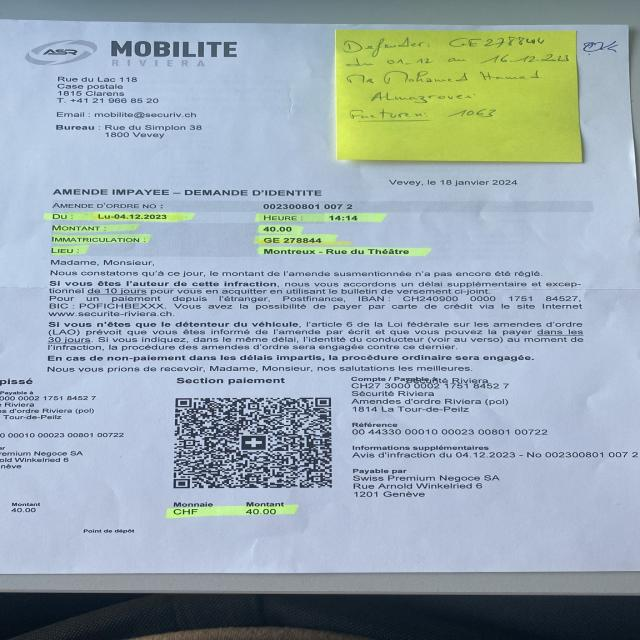paper-document-: (0, 20, 640, 574)
